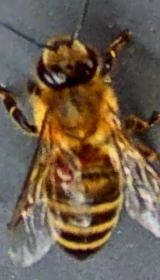varroa_mite: (50, 154, 80, 190)
